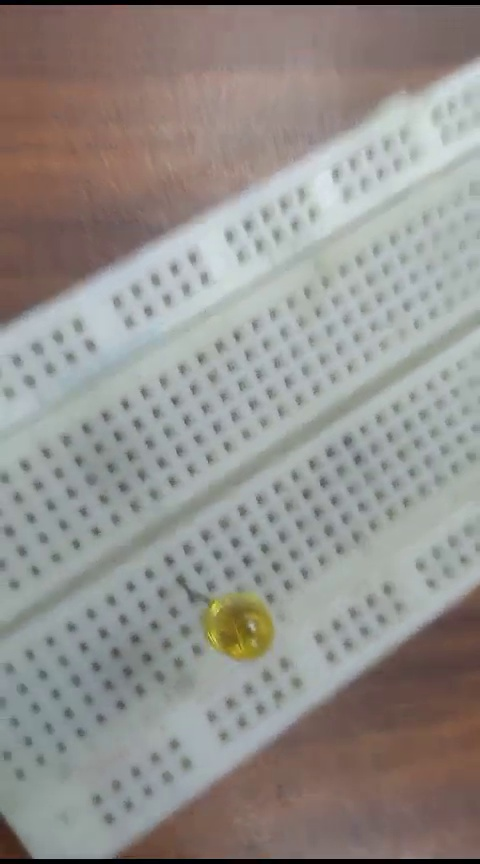LED: (167, 568, 284, 663)
